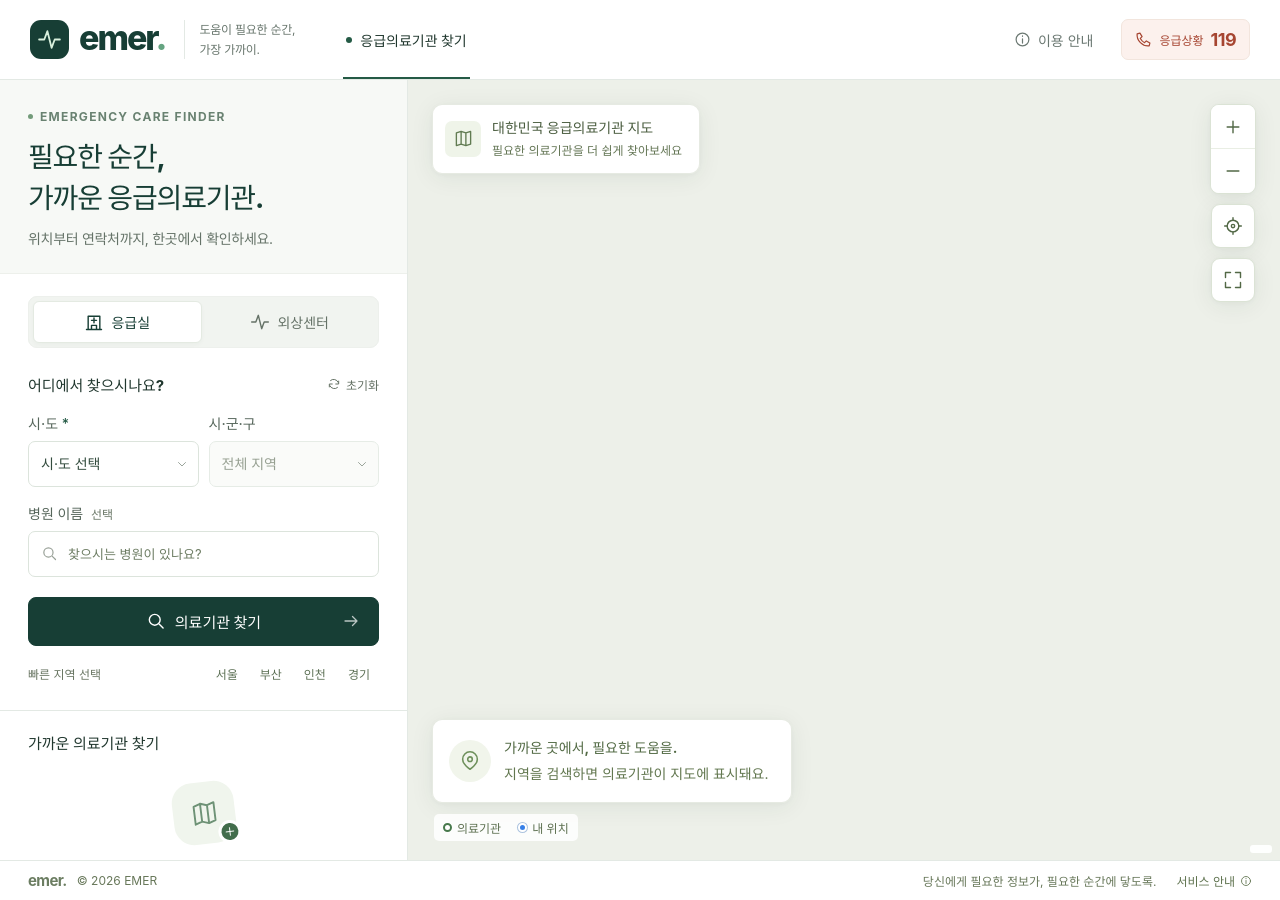
Test: searches with the selected district and opens details with an emergency phone link
The image size is (1280, 900).
Select "서울특별시" in the dropdown labelled "시·도 *" at (113, 464), box left=28, top=441, right=198, bottom=487
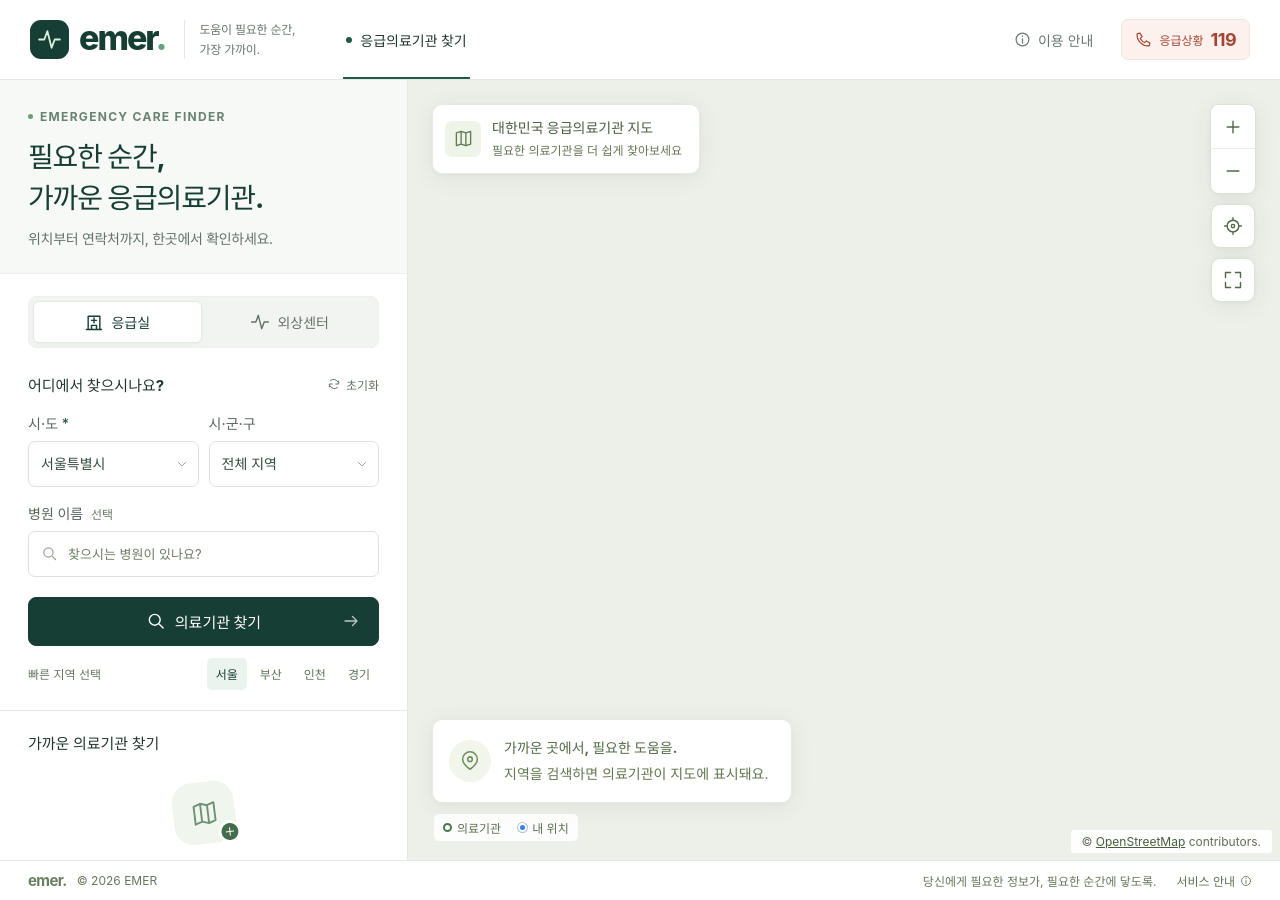
Select "종로구" in the dropdown labelled "시·군·구" at (294, 464), box left=208, top=441, right=379, bottom=487
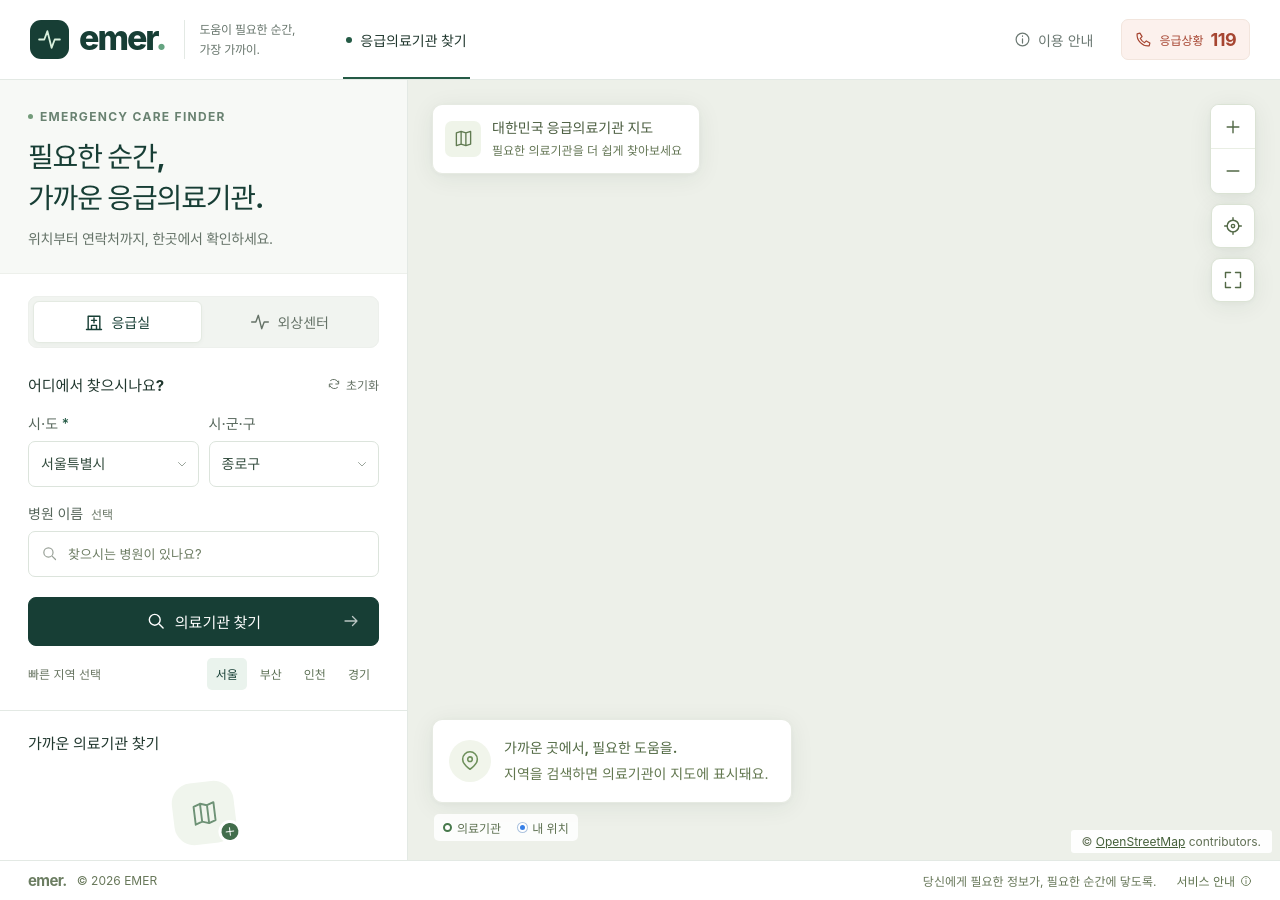
Type "  테스트  " into the search field labelled "병원 이름 선택" at (204, 554), box left=28, top=531, right=379, bottom=577
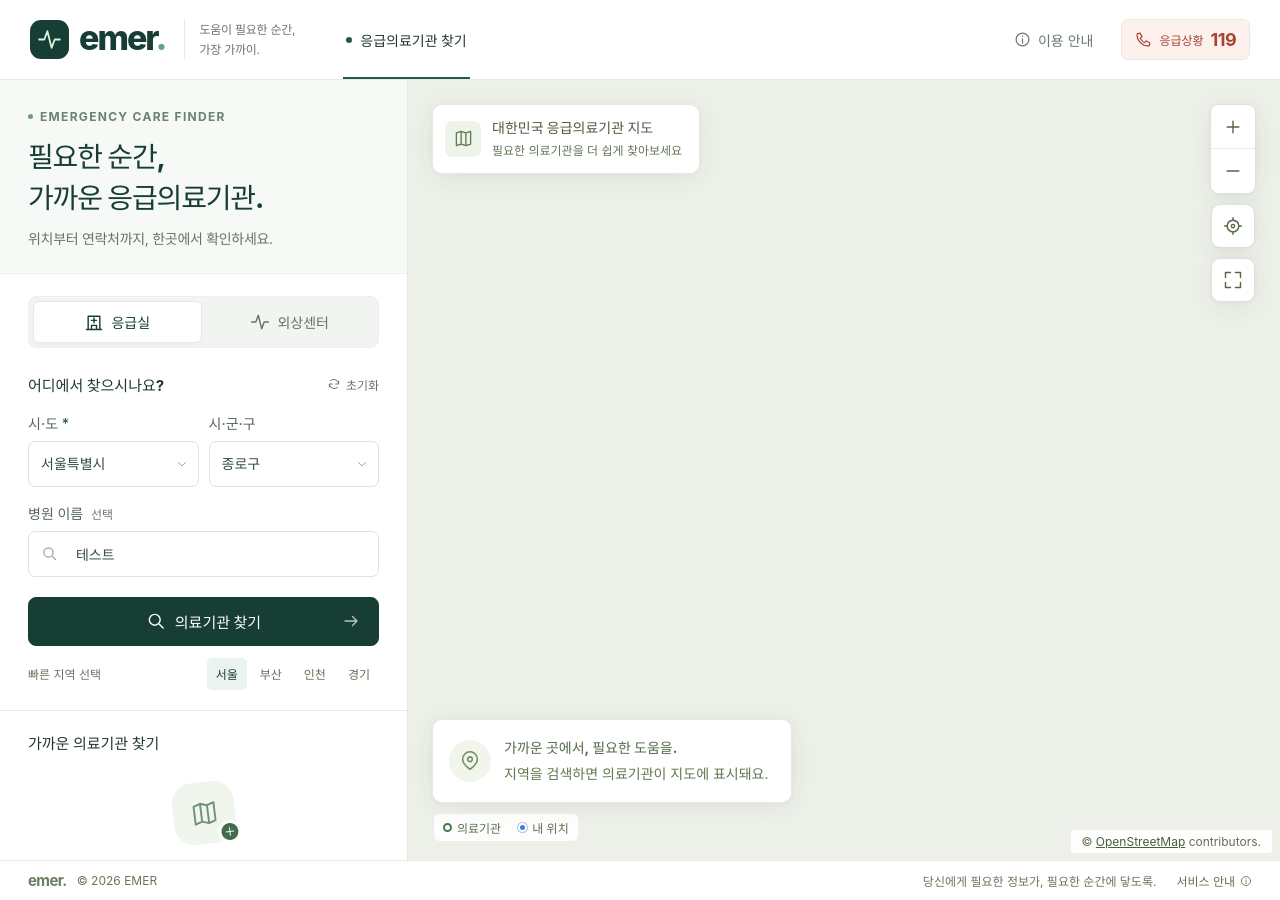
Submit the form named "의료기관 검색", box left=0, top=274, right=407, bottom=710
(page scrolled)
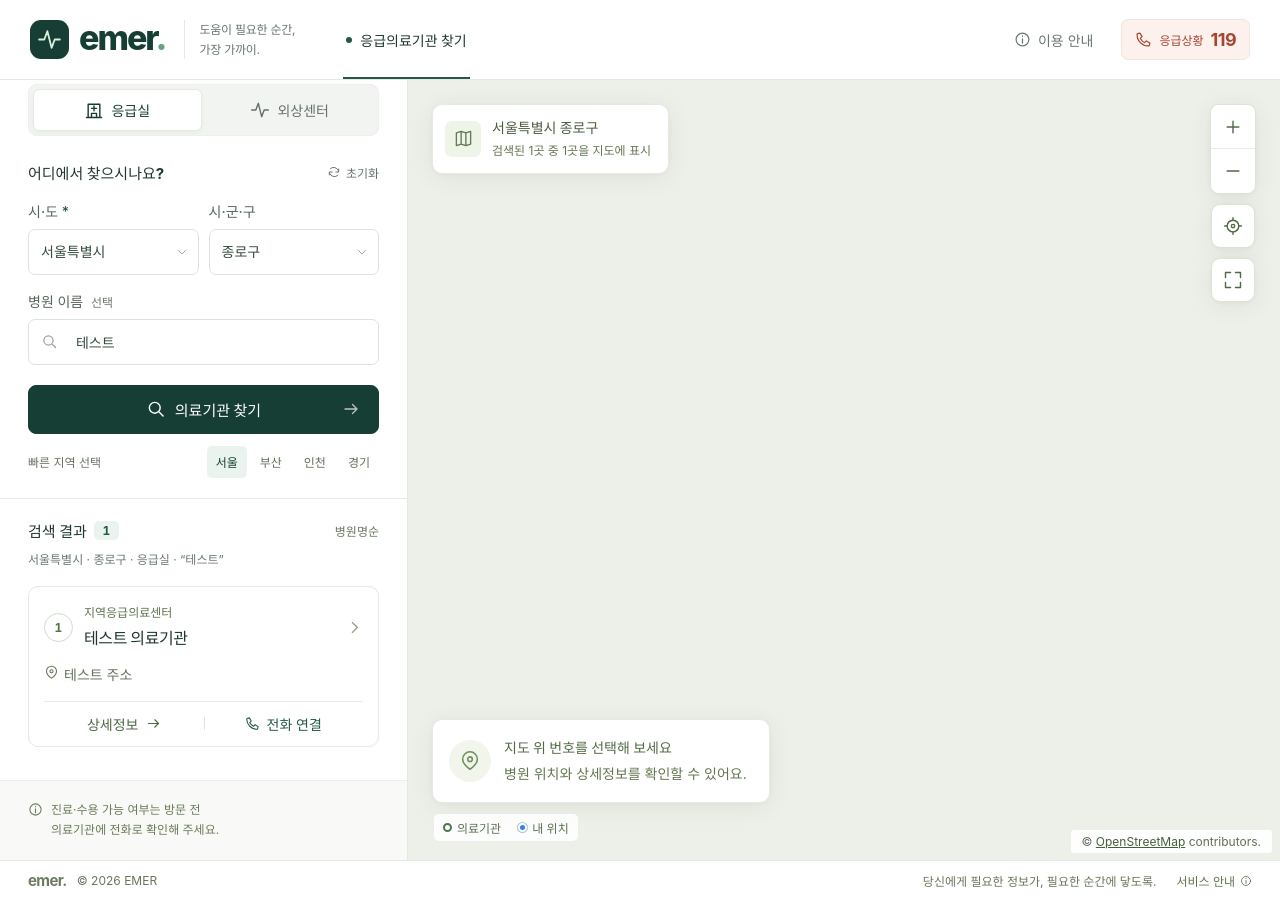
Expected: the button with aria-label "테스트 의료기관 선택" is shown, left=44, top=604, right=363, bottom=651
Click the button "상세정보" at (124, 724), box left=44, top=702, right=204, bottom=746
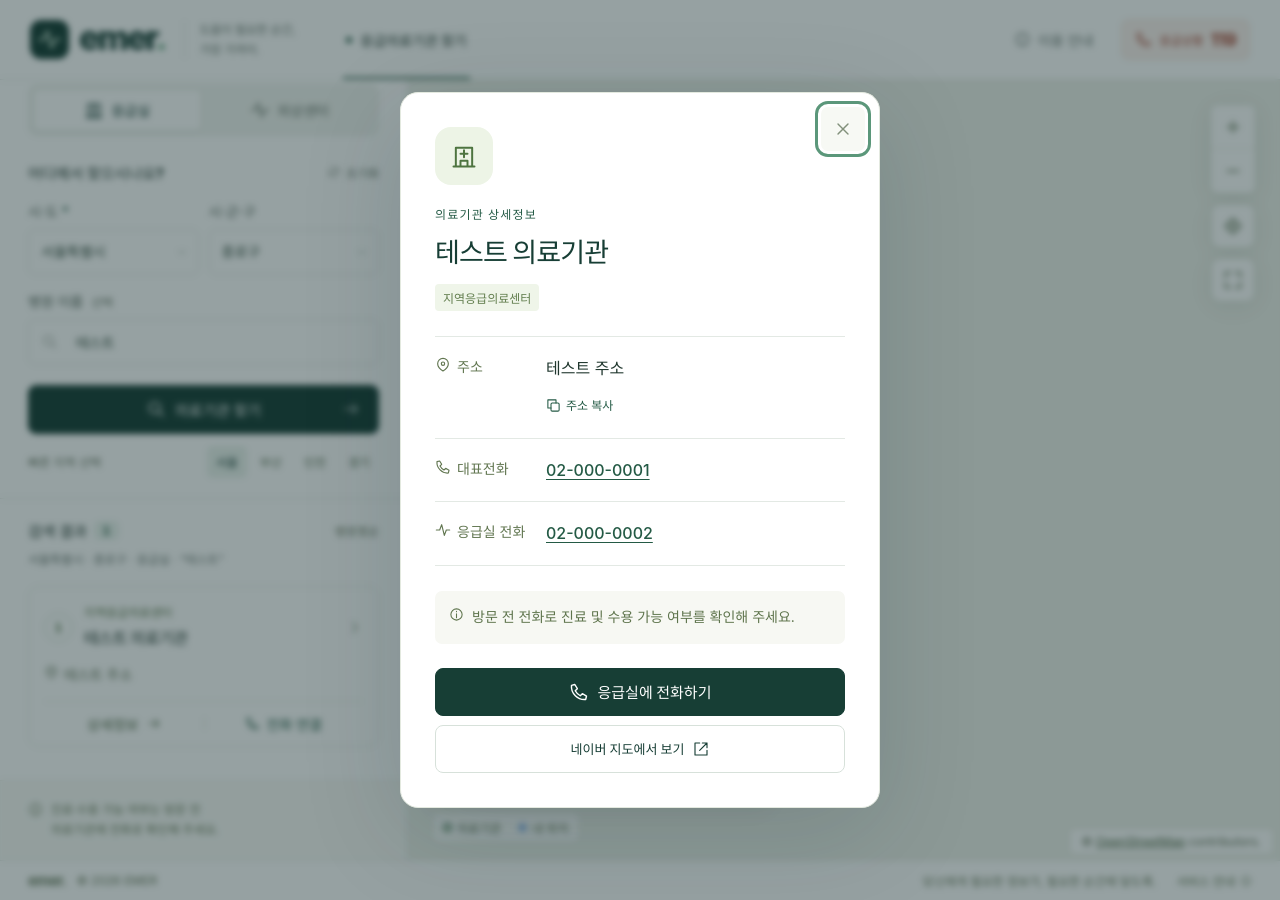
Click the button named "닫기" at (843, 129), box left=821, top=107, right=865, bottom=151
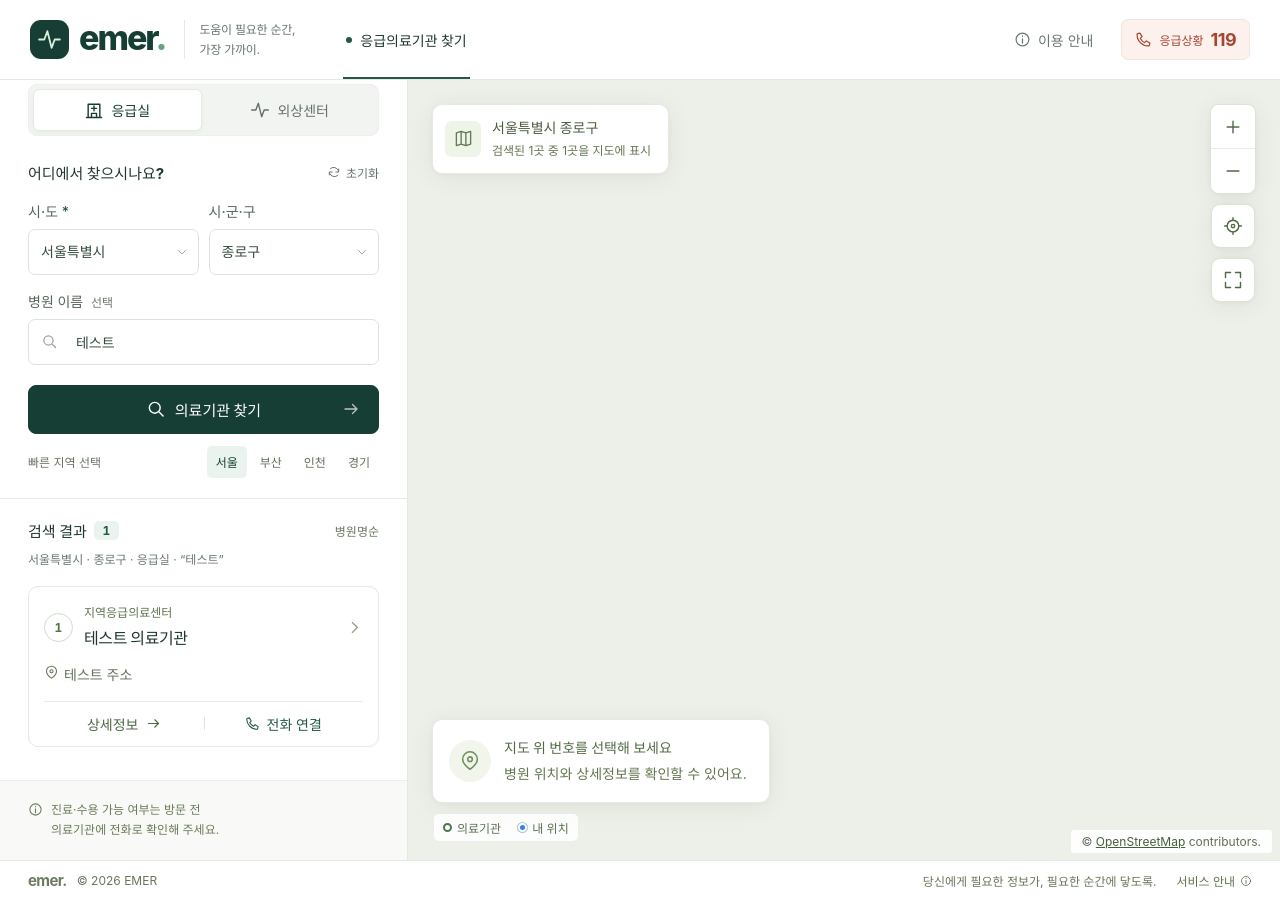
Expected: the dialog is gone
